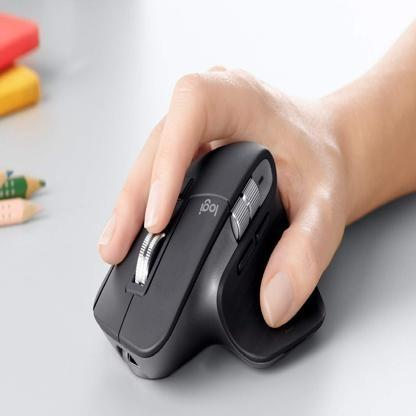not trash: (90, 144, 324, 380)
